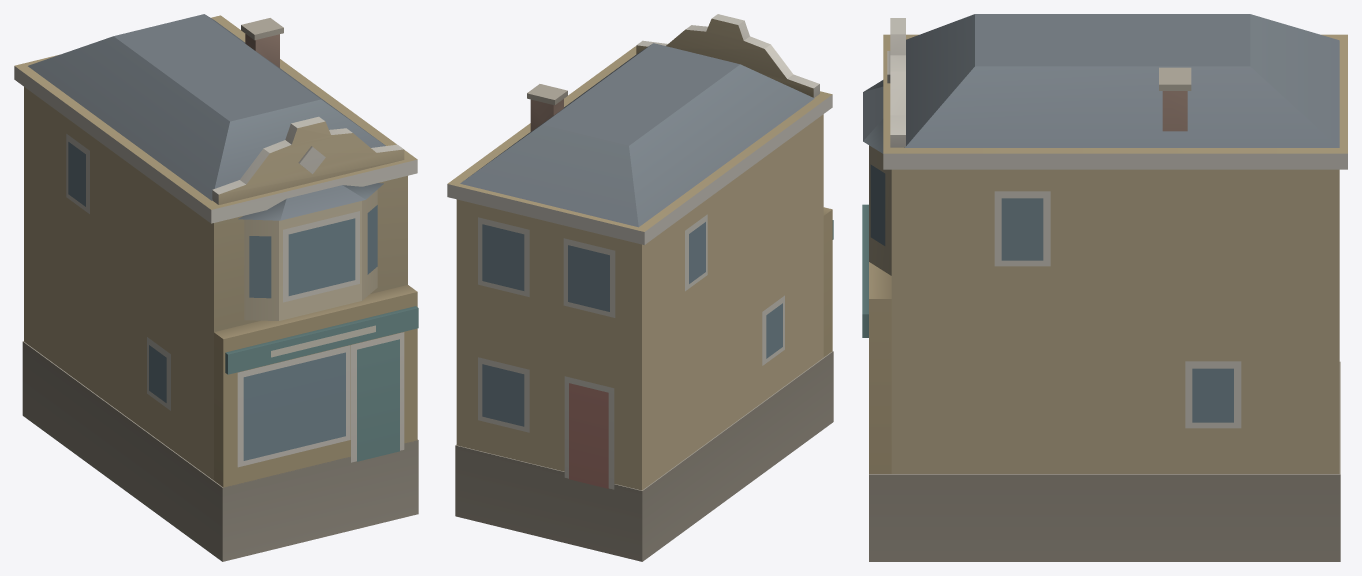
File: terrace_d.lod2.glb
The picture shows the model from 3 angles, left to right: view 1: azimuth 30°, elevation 25°; view 2: azimuth 150°, elevation 25°; view 3: azimuth 270°, elevation 25°; orthographic projection. The views are drawn at different scales.
Bounding box in the file's own units: 4.72 × 8.88 × 8.16.
